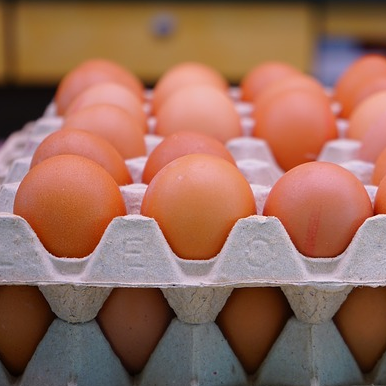egg: (13, 52, 386, 260)
